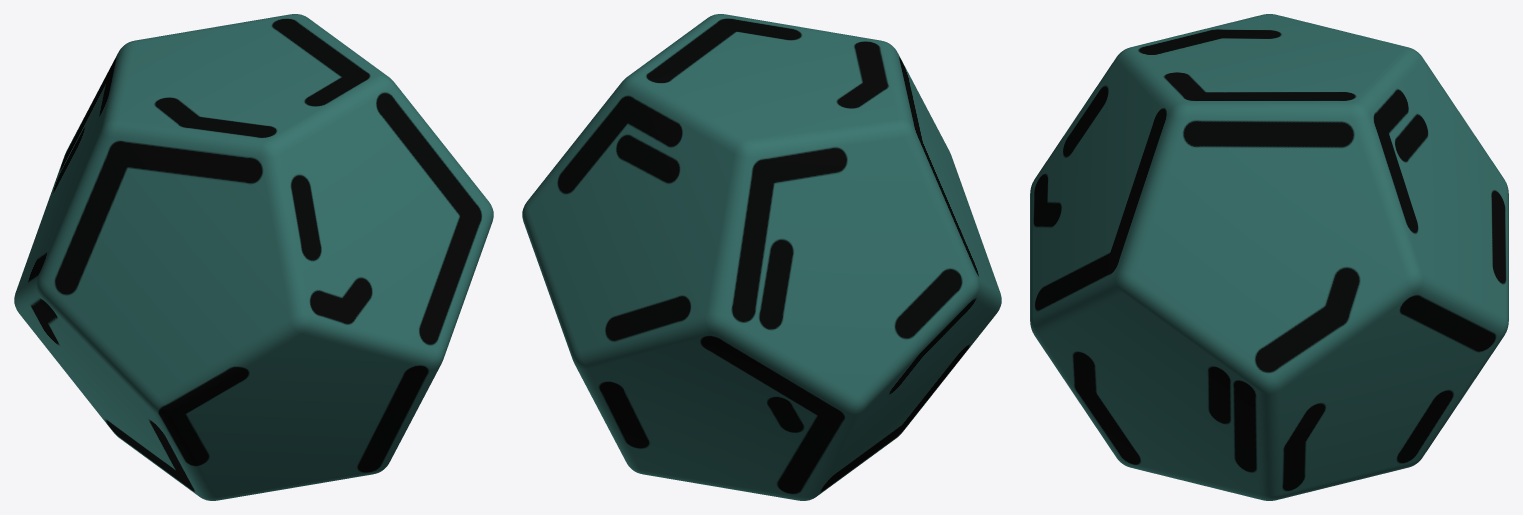
3 views of the same model, side by side, from view 1: azimuth 30°, elevation 25°; view 2: azimuth 150°, elevation 25°; view 3: azimuth 270°, elevation 25° (orthographic). The views are drawn at different scales.
Parts seen in each view (by area): view 1: Hedra001; view 2: Hedra001; view 3: Hedra001.
Boxes of the visible parts, x1,y1,x2,y2 form: Hedra001: (14,14,493,500); Hedra001: (522,14,1001,500); Hedra001: (1030,14,1508,500).
Bounding box in the file's own units: 9.74 × 8.31 × 9.21.
1 material, 1 textured.
